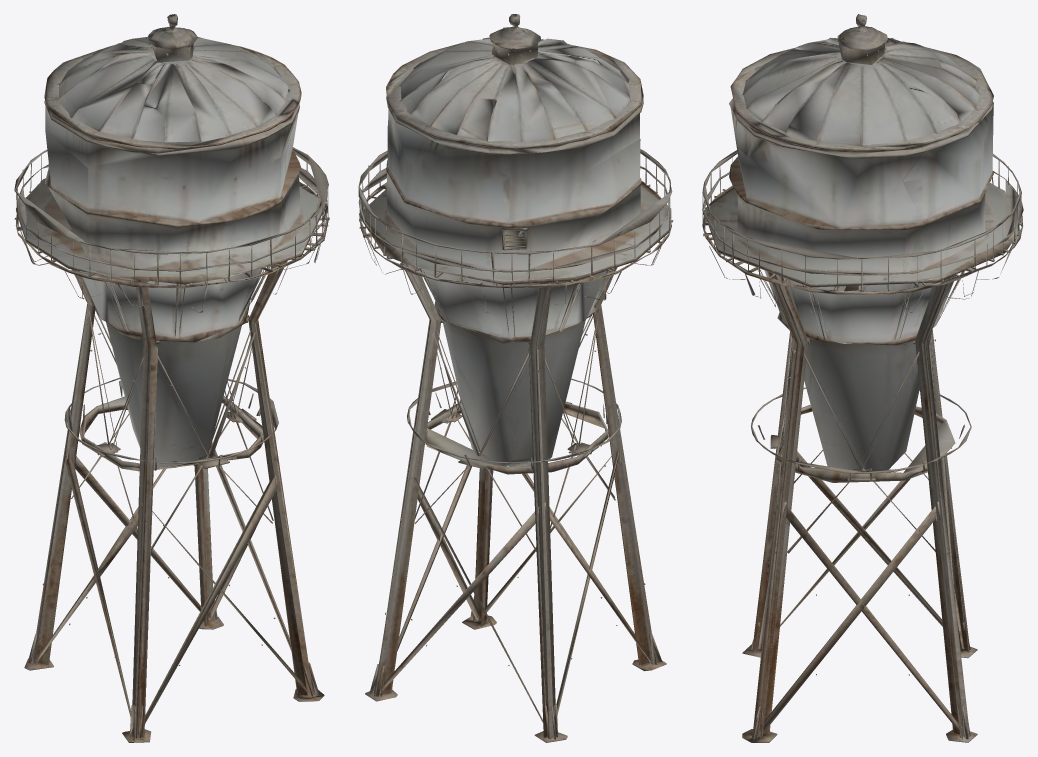
The model's file is water_tower.glb.
The picture shows the model from 3 angles, left to right: view 1: azimuth 30°, elevation 25°; view 2: azimuth 150°, elevation 25°; view 3: azimuth 270°, elevation 25°; orthographic projection. The views are drawn at different scales.
Size of the model in its own units: 12.04 by 28 by 12.01.
1 material, 1 textured.
